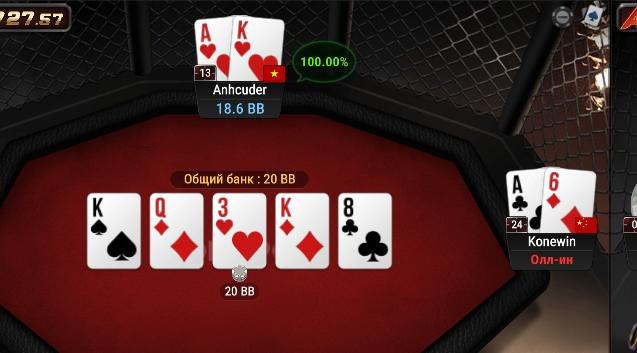3h: (213, 194, 265, 268)
6d: (543, 167, 597, 233)
8c: (339, 195, 390, 269)
Ac: (505, 170, 543, 233)
Ah: (193, 17, 231, 80)
Kd: (276, 193, 329, 268)
Kh: (231, 14, 285, 81)
Ks: (88, 194, 140, 268)
Qd: (150, 193, 204, 269)
